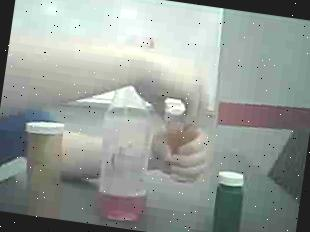Bottle A: (11, 117, 81, 221)
Bottle B: (156, 94, 205, 180)
Bottle C: (208, 165, 251, 232)
hazard: (97, 90, 161, 228)
